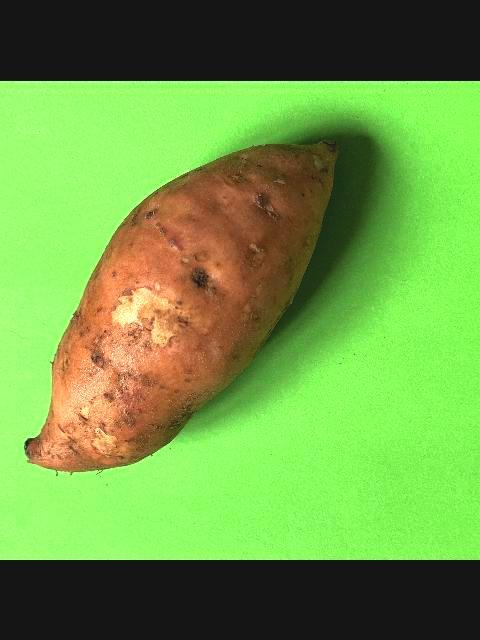sweetpotato: (23, 137, 341, 471)
